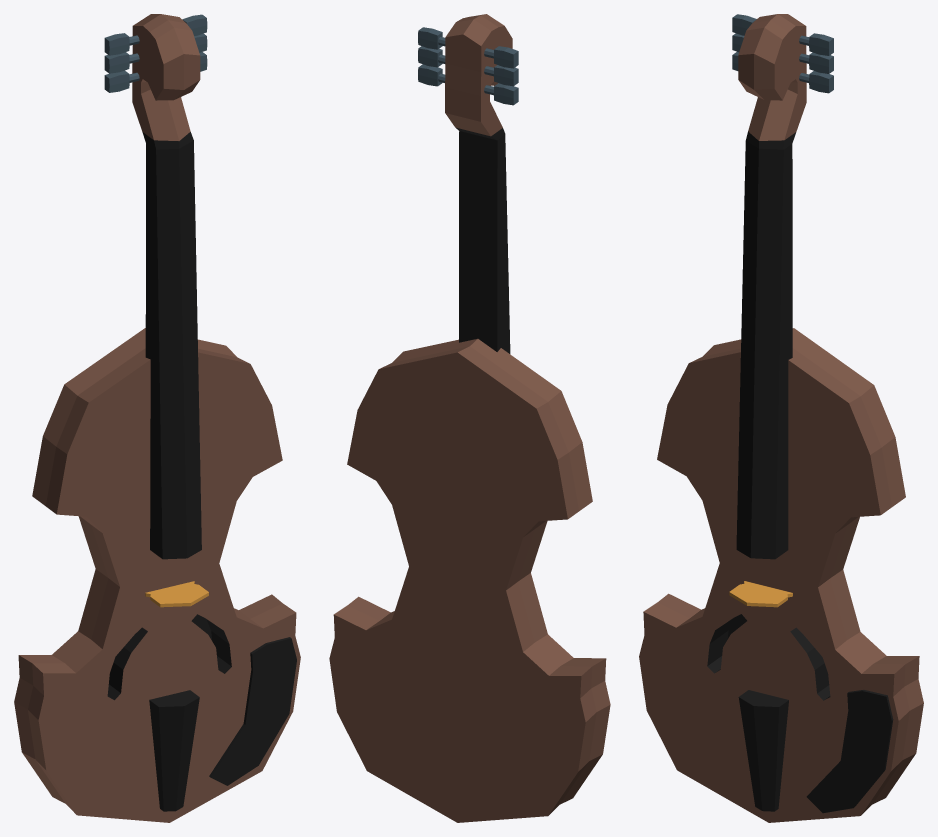
The model's file is Violin.glb.
3 views of the same model, side by side, from view 1: azimuth 30°, elevation 25°; view 2: azimuth 150°, elevation 25°; view 3: azimuth 330°, elevation 25° (orthographic).
Visible parts, largest first — view 1: Violin_Circle.005; view 2: Violin_Circle.005; view 3: Violin_Circle.005.
Boxes of the visible parts, x1,y1,x2,y2 form: Violin_Circle.005: (14, 14, 300, 822); Violin_Circle.005: (329, 14, 610, 822); Violin_Circle.005: (639, 14, 923, 822).
Bounding box in the file's own units: 0.538 × 1.58 × 0.1678.
